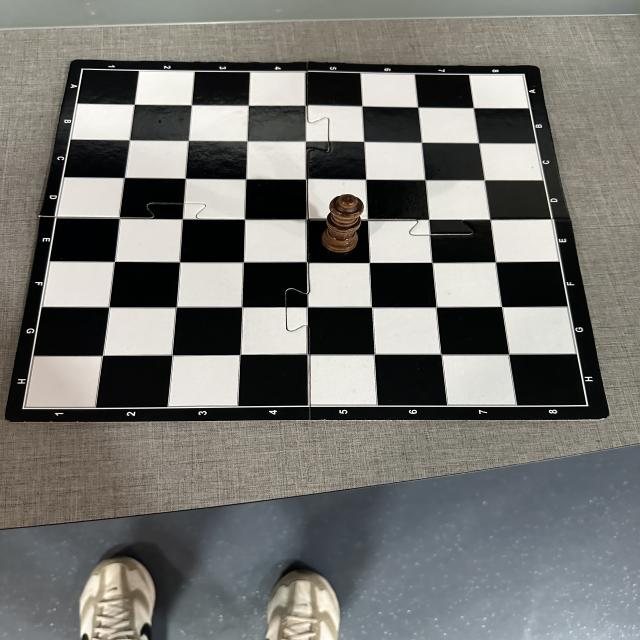Black-Queen: (322, 194, 364, 253)
